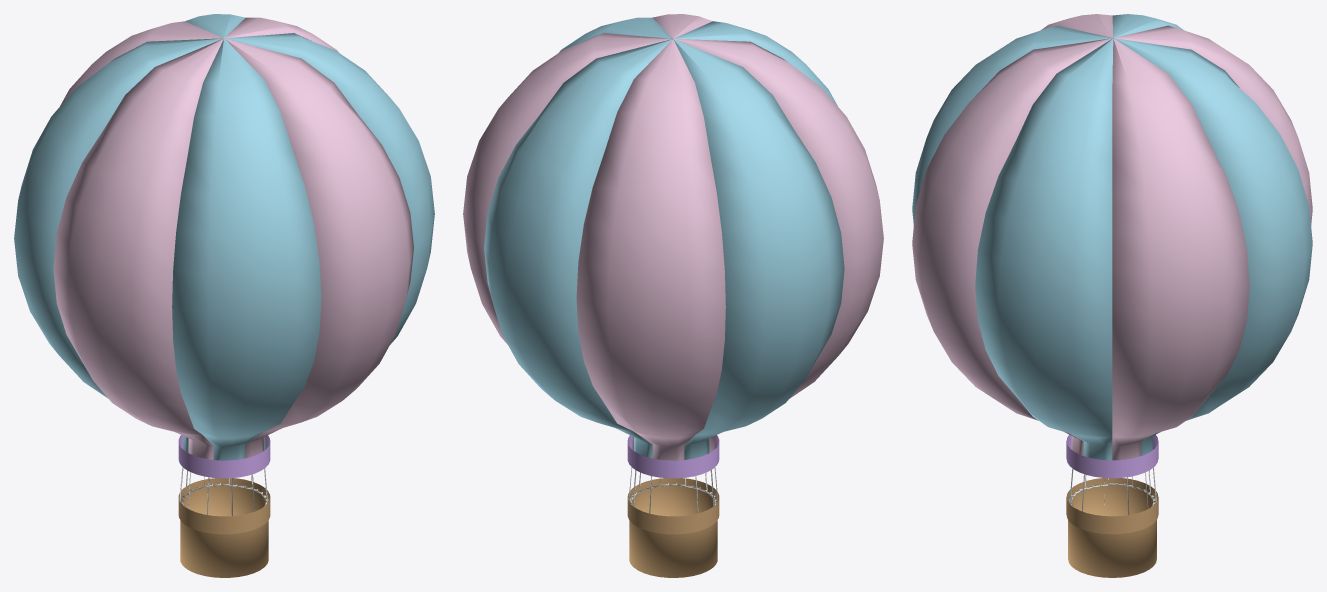
The model's file is hotairballoon_Naomi.glb.
3 renders of one model, left to right at view 1: azimuth 30°, elevation 25°; view 2: azimuth 150°, elevation 25°; view 3: azimuth 270°, elevation 25°, orthographic.
Parts seen in each view (by area): view 1: Sphere, Circle.002, Circle.001, Cycloid.001; view 2: Sphere, Circle.002, Circle.001, Cycloid.001; view 3: Sphere, Circle.002, Circle.001, Cycloid.001.
Boxes of the visible parts, bbox=[...] form: Sphere: bbox=[14, 14, 434, 460]; Circle.002: bbox=[178, 478, 270, 577]; Circle.001: bbox=[178, 435, 270, 478]; Cycloid.001: bbox=[179, 467, 268, 515]; Sphere: bbox=[463, 14, 883, 460]; Circle.002: bbox=[627, 478, 719, 577]; Circle.001: bbox=[627, 435, 719, 478]; Cycloid.001: bbox=[628, 467, 718, 513]; Sphere: bbox=[912, 14, 1312, 460]; Circle.002: bbox=[1066, 478, 1158, 577]; Circle.001: bbox=[1066, 434, 1158, 478]; Cycloid.001: bbox=[1068, 467, 1156, 515].
Bounding box in the file's own units: 7.88 × 11.09 × 7.73.
